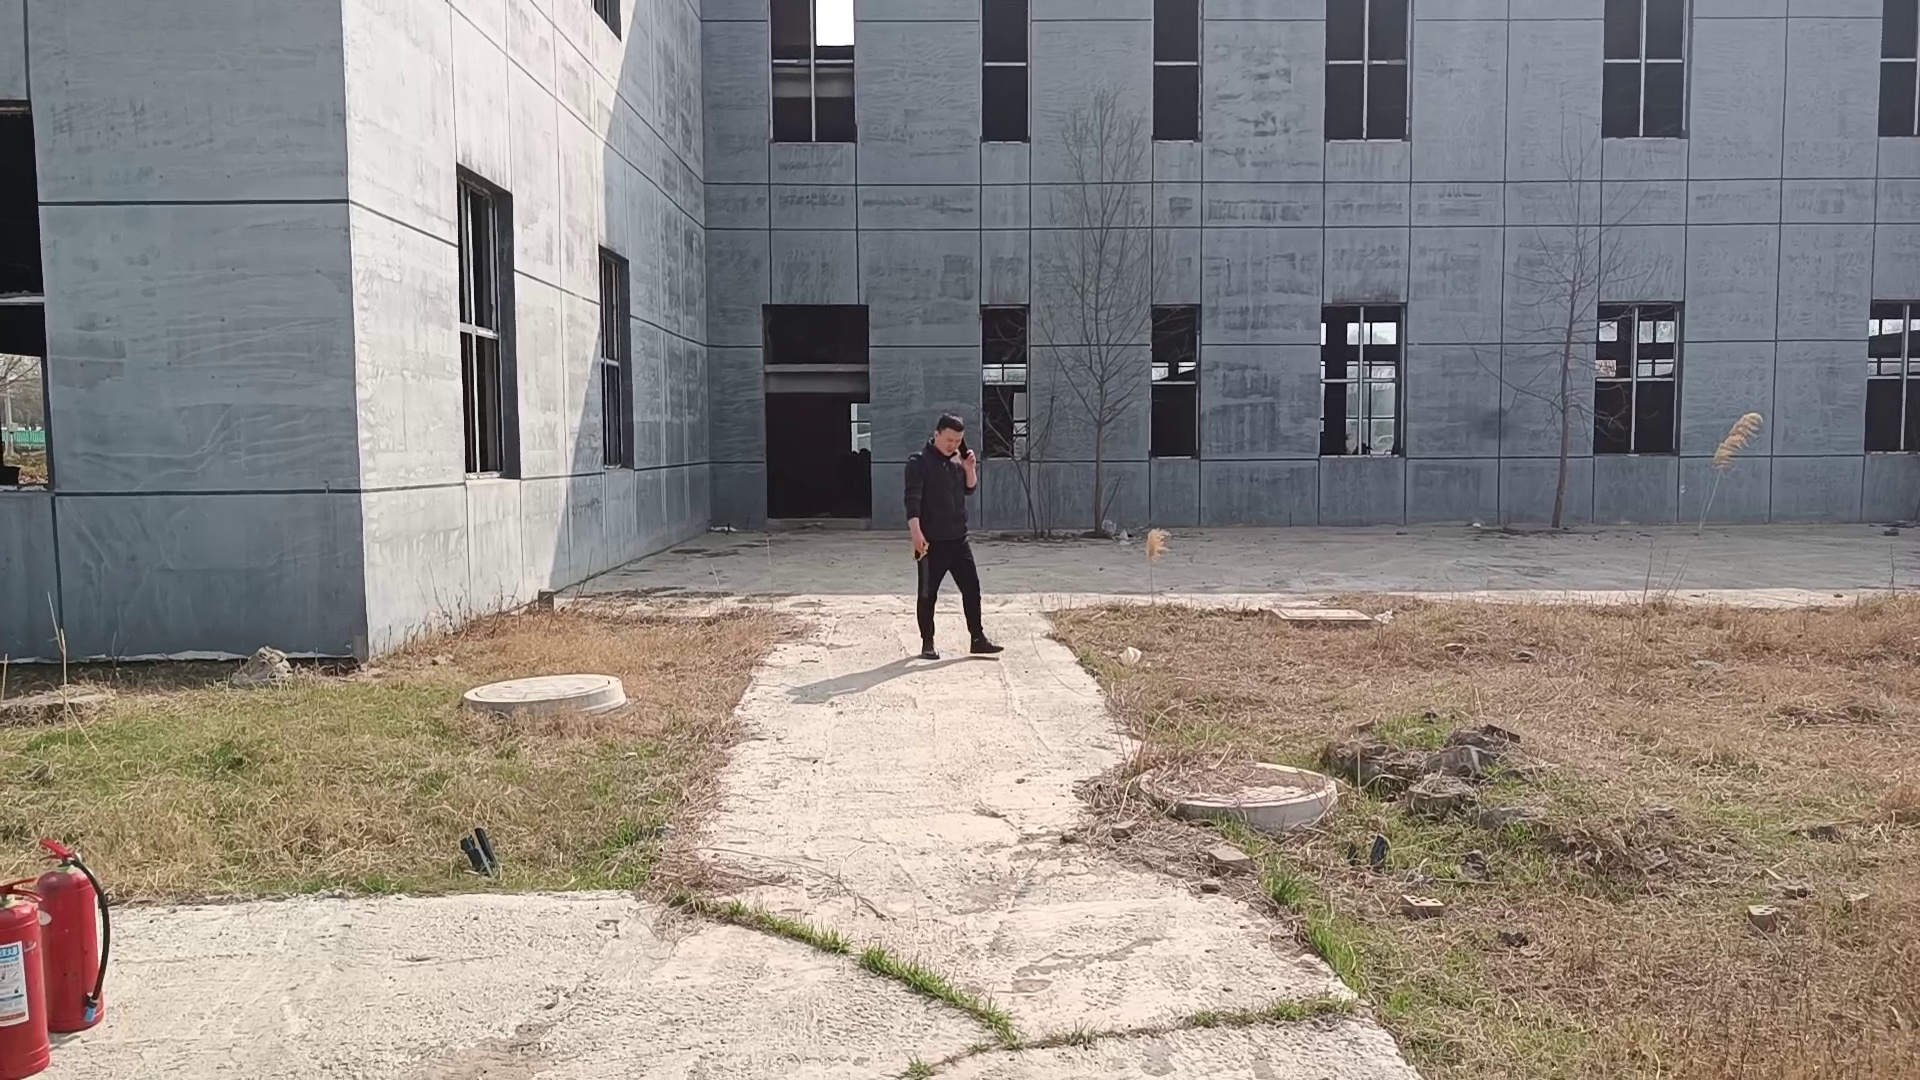phone: (920, 413, 982, 464)
